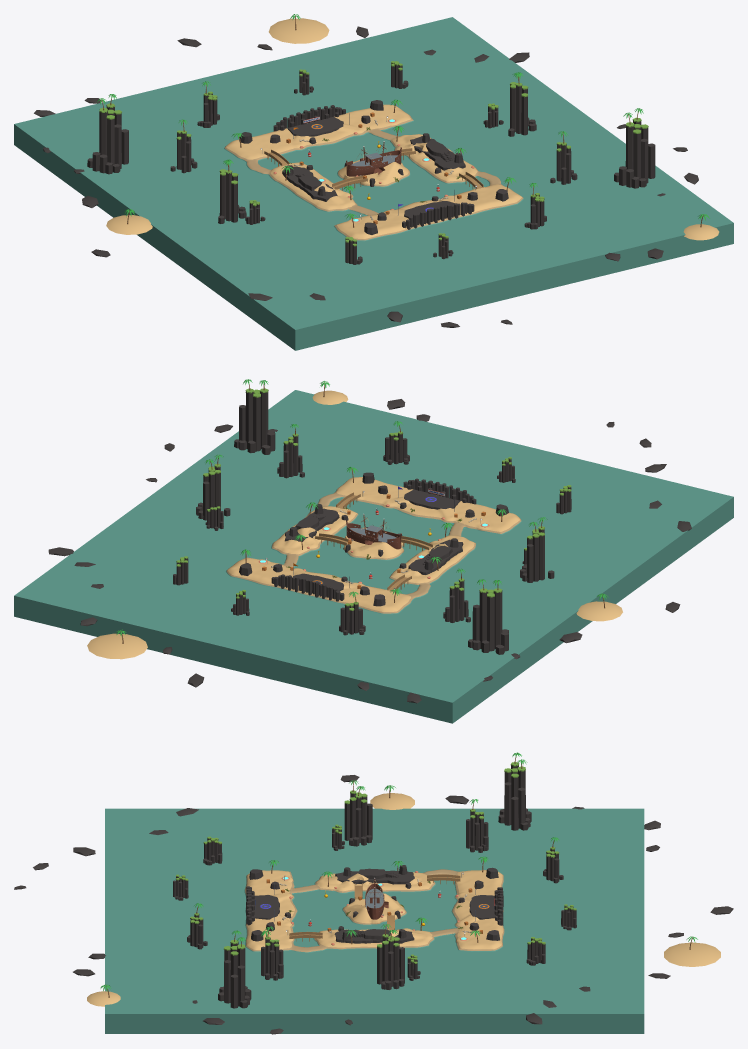
Rendered from map_cinder.glb.
3 renders of one model, top to bottom at view 1: azimuth 30°, elevation 25°; view 2: azimuth 150°, elevation 25°; view 3: azimuth 270°, elevation 25°, orthographic. The views are drawn at different scales.
Parts seen in each view (by area): view 1: oob_sea, deco_seastacks, paint_sand, deco_horizon, paint_basalt, solid_cliff, solid_seabed, oob_chan_lagoon_m, paint_wreck, col_bridge_rails; view 2: oob_sea, deco_seastacks, paint_sand, deco_horizon, paint_basalt, oob_chan_lagoon_m, solid_cliff, solid_seabed, oob_chan_lagoon, paint_wreck, col_bridge_rails; view 3: oob_sea, deco_seastacks, paint_sand, deco_horizon, paint_basalt, oob_chan_lagoon_m, oob_chan_lagoon, solid_seabed, solid_cliff, col_bridge_rails, oob_chan_east, oob_chan_east_m.
Boxes of the visible parts, left/top/right/bottom form: oob_sea: left=14, top=17, right=733, bottom=350; deco_seastacks: left=87, top=61, right=655, bottom=264; paint_sand: left=224, top=104, right=523, bottom=240; deco_horizon: left=34, top=14, right=719, bottom=327; paint_basalt: left=239, top=100, right=508, bottom=234; solid_cliff: left=273, top=105, right=474, bottom=229; solid_seabed: left=224, top=116, right=523, bottom=241; oob_chan_lagoon_m: left=381, top=174, right=457, bottom=208; paint_wreck: left=346, top=147, right=401, bottom=176; col_bridge_rails: left=264, top=148, right=482, bottom=188; oob_sea: left=14, top=390, right=733, bottom=723; deco_seastacks: left=173, top=379, right=571, bottom=654; paint_sand: left=226, top=477, right=521, bottom=613; deco_horizon: left=48, top=381, right=691, bottom=703; paint_basalt: left=239, top=472, right=508, bottom=606; oob_chan_lagoon_m: left=351, top=505, right=453, bottom=542; solid_cliff: left=271, top=478, right=476, bottom=601; solid_seabed: left=226, top=489, right=521, bottom=614; oob_chan_lagoon: left=297, top=548, right=392, bottom=587; paint_wreck: left=346, top=520, right=401, bottom=549; col_bridge_rails: left=315, top=492, right=432, bottom=589; oob_sea: left=105, top=808, right=644, bottom=1033; deco_seastacks: left=173, top=752, right=576, bottom=1008; paint_sand: left=245, top=869, right=504, bottom=952; deco_horizon: left=14, top=775, right=733, bottom=1034; paint_basalt: left=249, top=865, right=499, bottom=943; oob_chan_lagoon_m: left=293, top=891, right=346, bottom=931; oob_chan_lagoon: left=403, top=891, right=456, bottom=931; solid_seabed: left=244, top=872, right=504, bottom=952; solid_cliff: left=246, top=886, right=503, bottom=925; col_bridge_rails: left=289, top=874, right=459, bottom=938; oob_chan_east: left=430, top=931, right=456, bottom=954; oob_chan_east_m: left=292, top=868, right=319, bottom=891.
Size of the model in its own units: 227 by 35.01 by 267.
